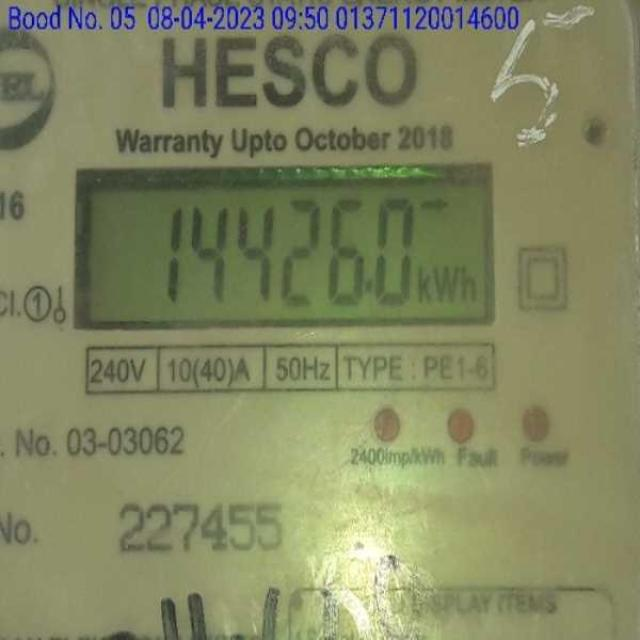0: (376, 199, 416, 306)
1: (166, 202, 187, 306)
2: (282, 202, 324, 309)
4: (189, 204, 234, 304), (234, 204, 276, 304)
6: (327, 200, 367, 308)
Digital meter: (74, 176, 496, 324)
point: (366, 277, 376, 295)
